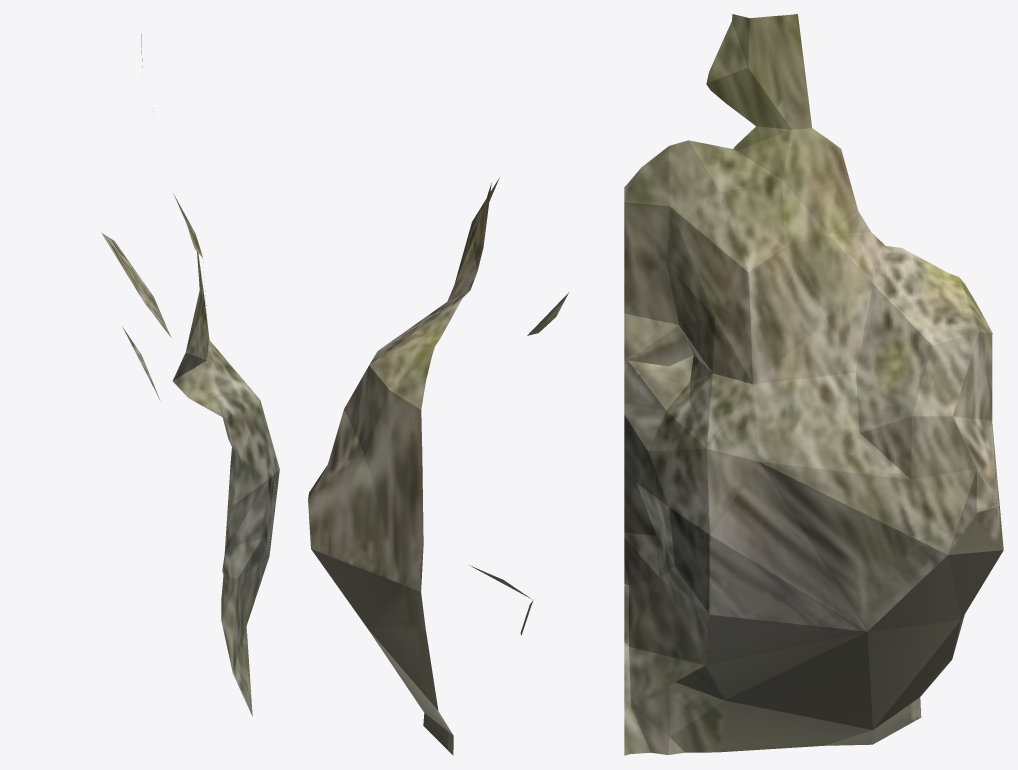
3 views of the same model, side by side, from view 1: azimuth 30°, elevation 25°; view 2: azimuth 150°, elevation 25°; view 3: azimuth 270°, elevation 25° (orthographic). The views are drawn at different scales.
Size of the model in its own units: 1.13 by 5.9 by 2.88.
Materials: 2 (2 with a texture image).
